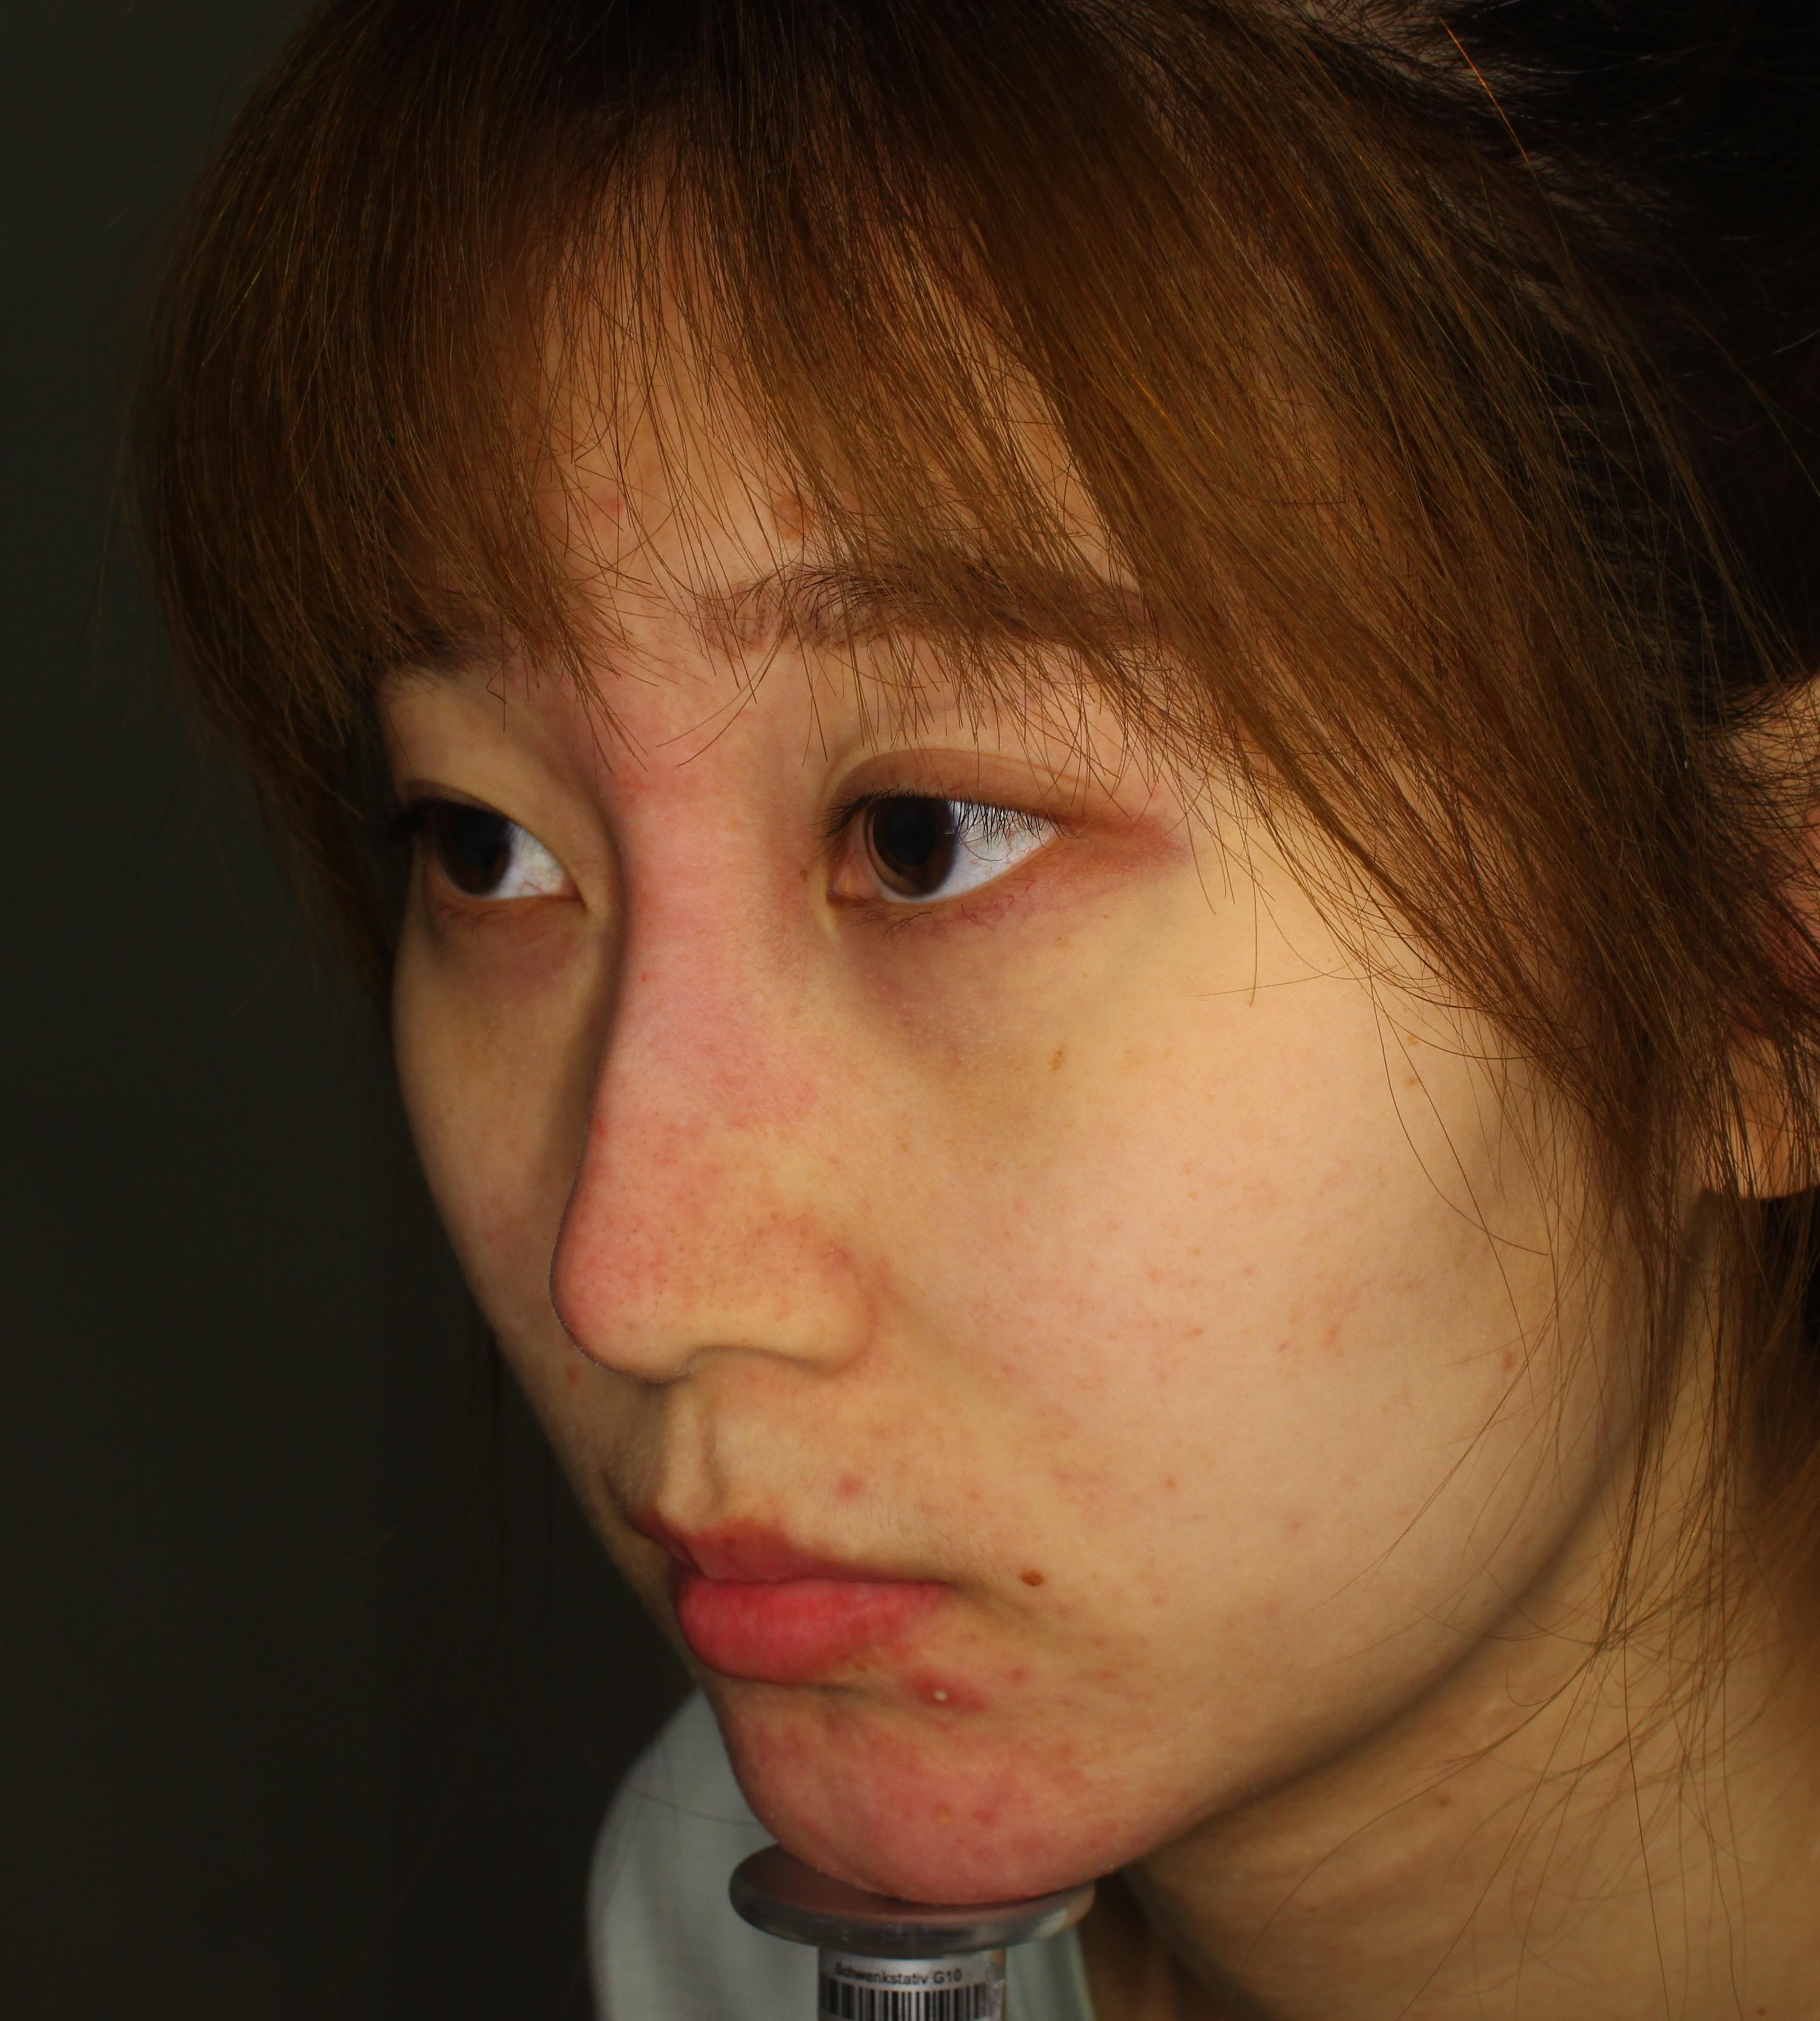fore: (910, 1649, 1001, 1737)
